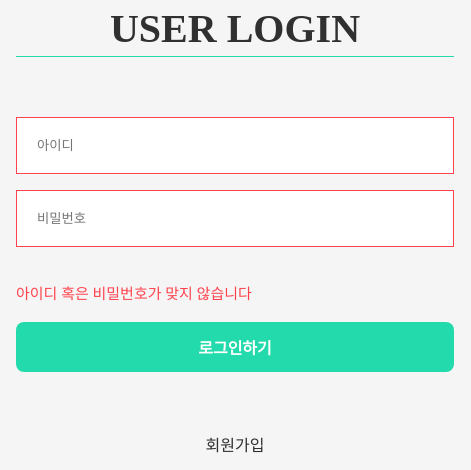
Test case: LoginForm › 로그인에 실패했을 때 › 비밀번호를 입력하지 않은 경우
In the field with placeholder "아이디": (235,146) [16,117,454,174], type "boni1234"
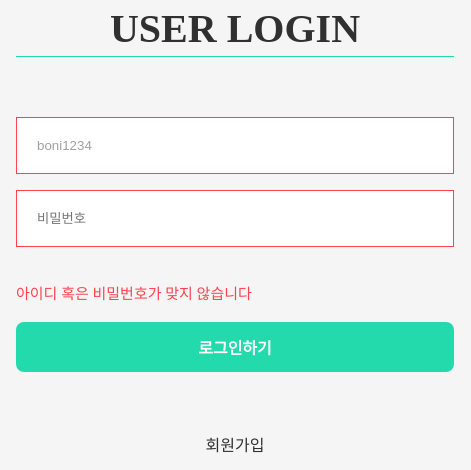
Click the button "로그인하기": (235,347) [16,322,454,372]
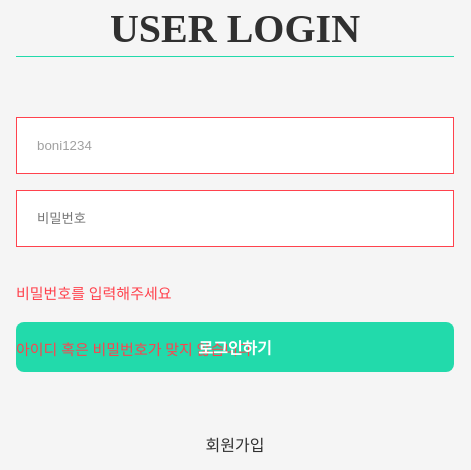
Expected: the text "비밀번호를 입력해주세요" is shown, [16,286,172,302]
